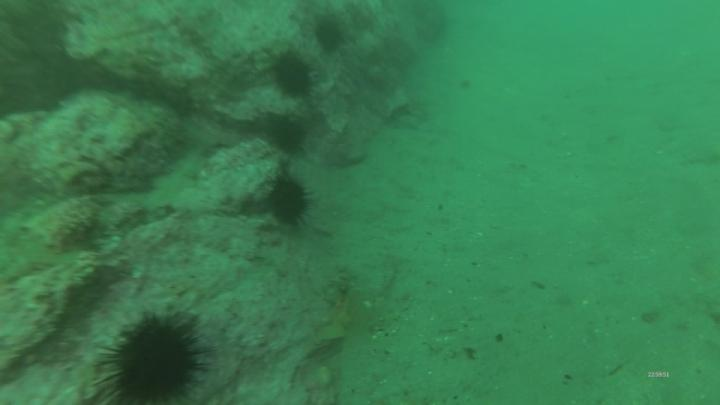echinus: (114, 328, 196, 401), (270, 182, 308, 224), (275, 55, 310, 100), (272, 119, 309, 155), (320, 22, 341, 50)
